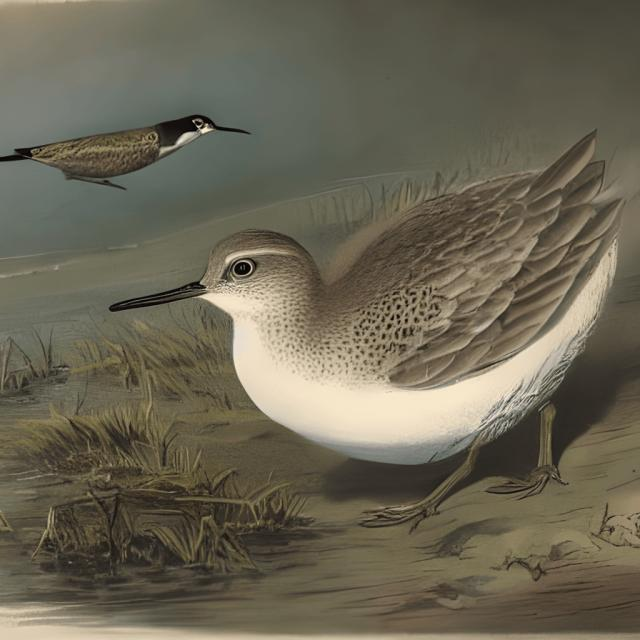Sandpiper: (103, 137, 618, 504)
